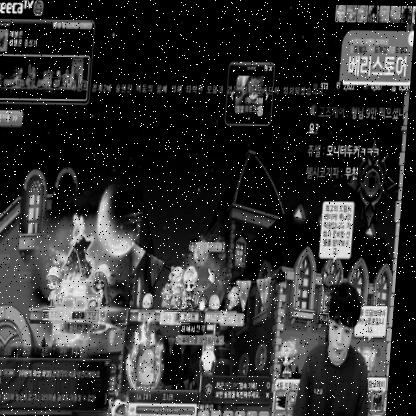streamer: (297, 280, 383, 416)
